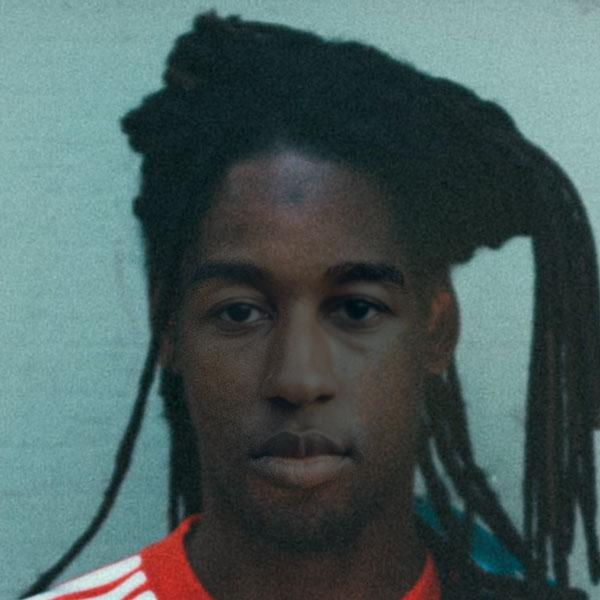Eyes: (195, 289, 282, 340), (316, 287, 398, 333)
